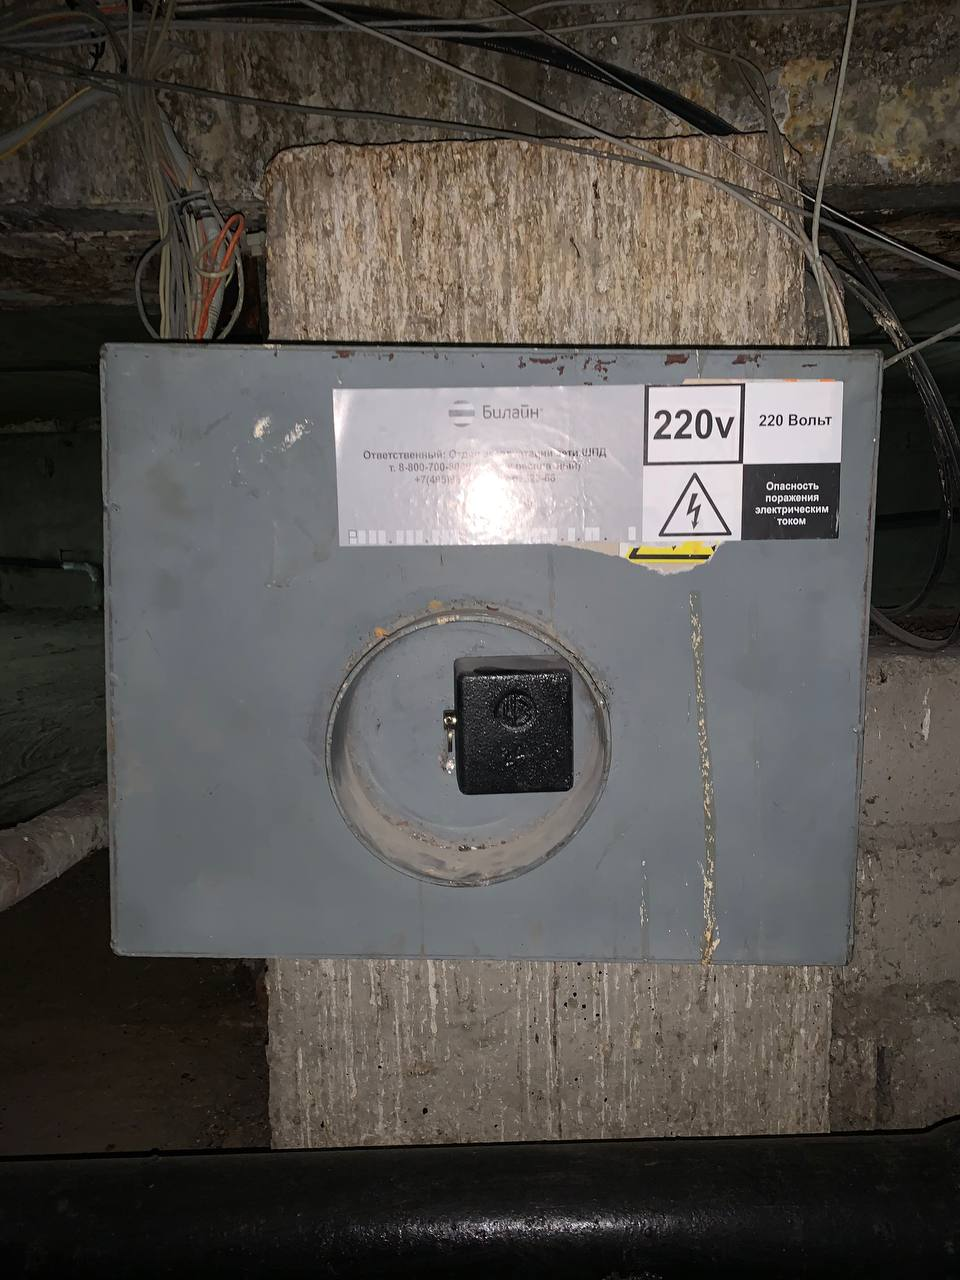shta-3: (91, 341, 890, 973)
